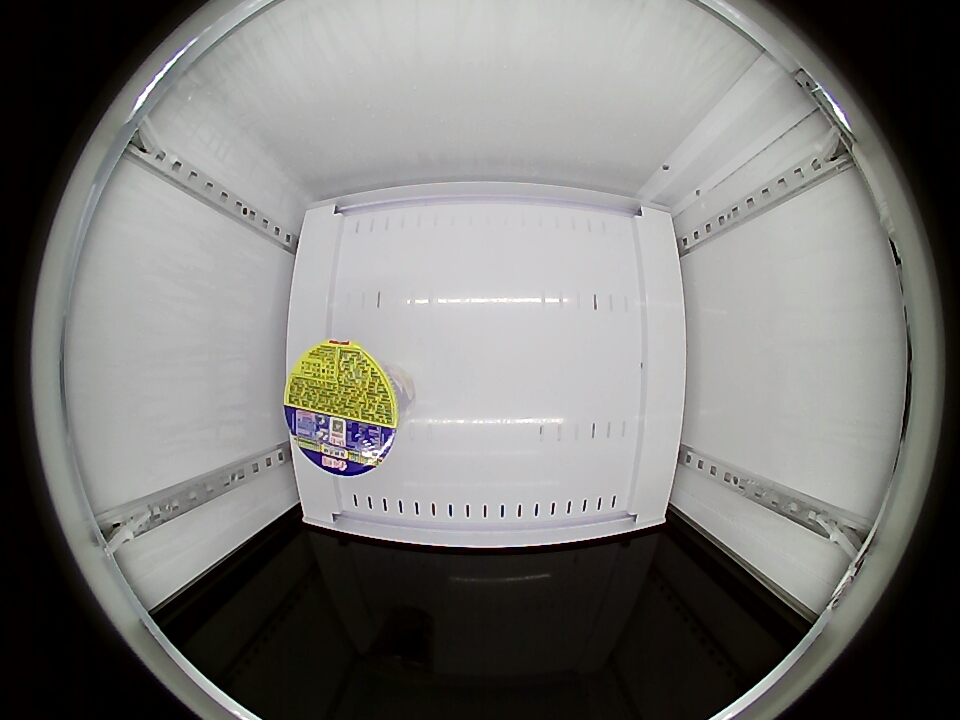heweidao: (283, 340, 402, 476)
